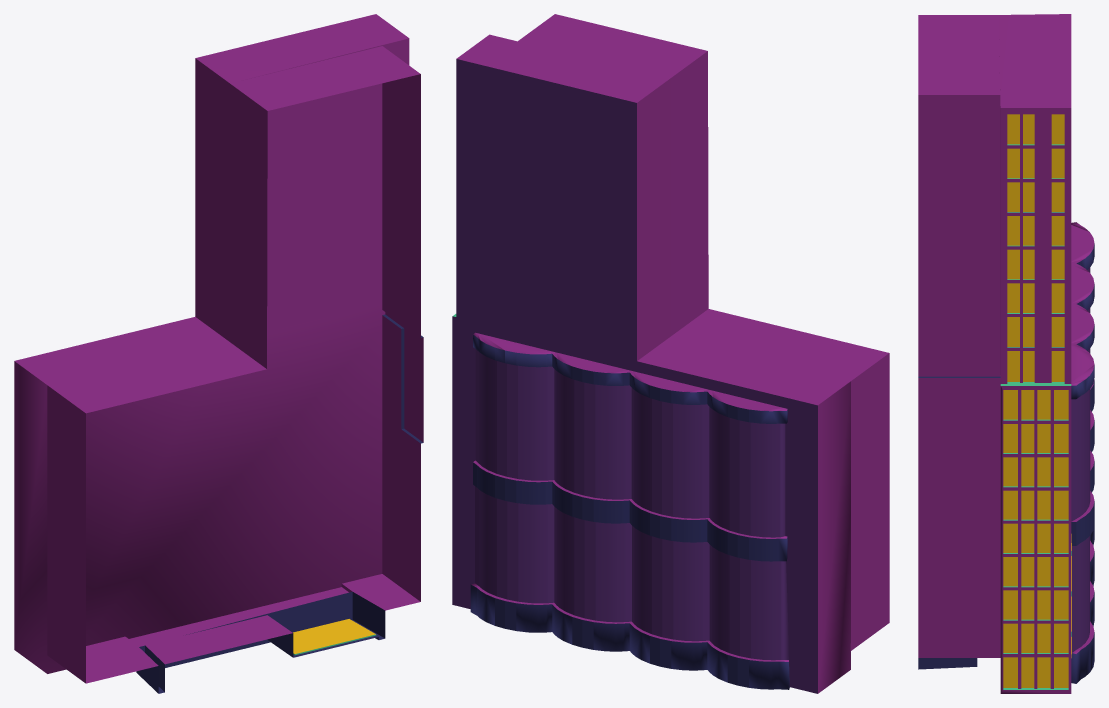
The model's file is SezamV3.fbx.
3 renders of one model, left to right at view 1: azimuth 30°, elevation 25°; view 2: azimuth 150°, elevation 25°; view 3: azimuth 270°, elevation 25°, orthographic. The views are drawn at different scales.
Parts seen in each view (by area): view 1: Sezam; view 2: Sezam; view 3: Sezam.
Boxes of the visible parts, box(x1,y1,x2,y2) form: Sezam: box(14, 14, 423, 693); Sezam: box(452, 14, 889, 693); Sezam: box(918, 14, 1094, 693).
Size of the model in its own units: 3.03 by 4.41 by 1.18.
